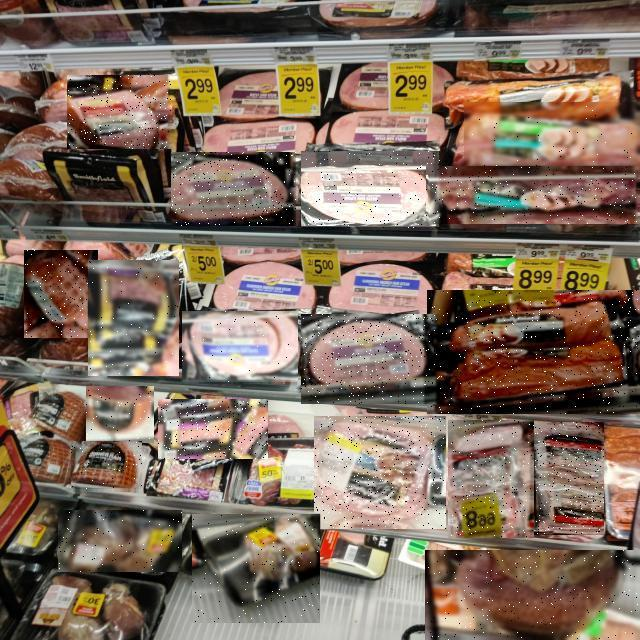Meat: (427, 290, 640, 414), (425, 550, 640, 640), (314, 416, 446, 529), (193, 514, 321, 623), (464, 102, 640, 178), (302, 314, 440, 404), (430, 167, 640, 225), (302, 152, 442, 230), (88, 260, 179, 376), (449, 420, 535, 538), (172, 152, 298, 226), (530, 422, 604, 535), (182, 312, 298, 384), (68, 75, 172, 149), (59, 510, 183, 572), (159, 399, 269, 459), (24, 250, 98, 338), (86, 386, 154, 443), (71, 442, 142, 492)
